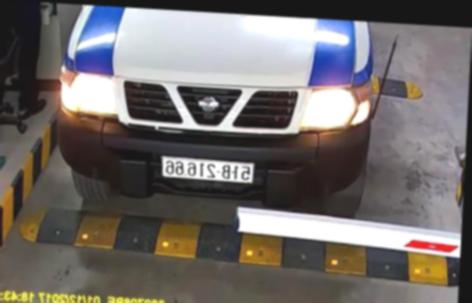License_Plate: (160, 155, 255, 186)
